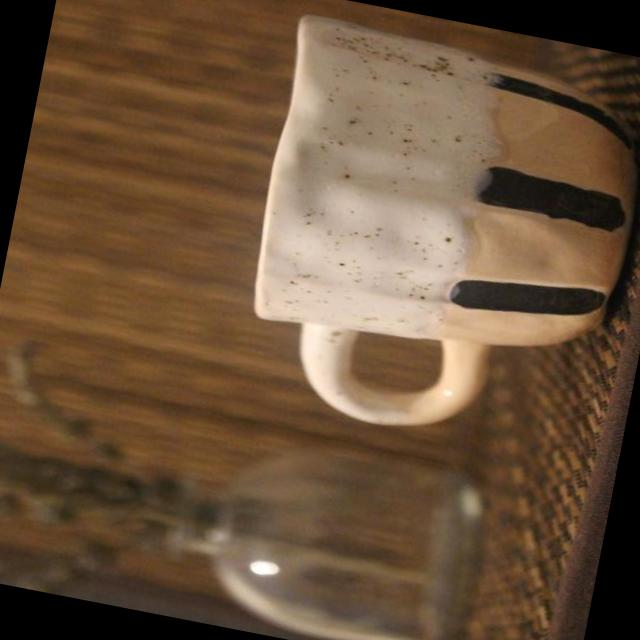Coffee Mug: (223, 9, 640, 467)
